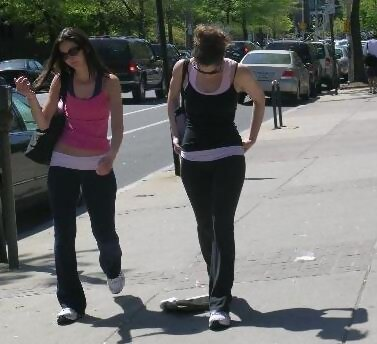person: (16, 25, 140, 307), (160, 25, 272, 325)
